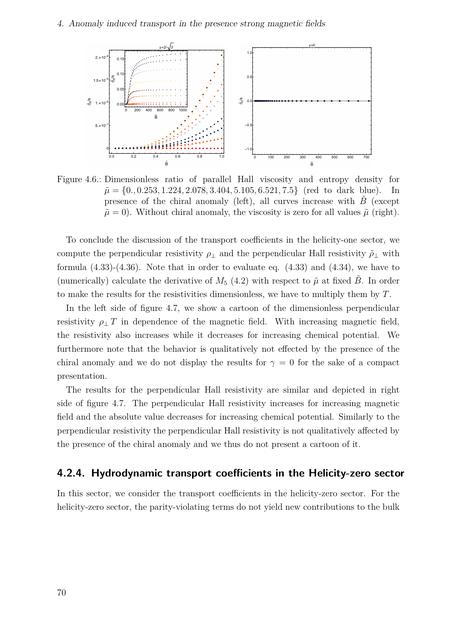box: (86, 39, 378, 167)
